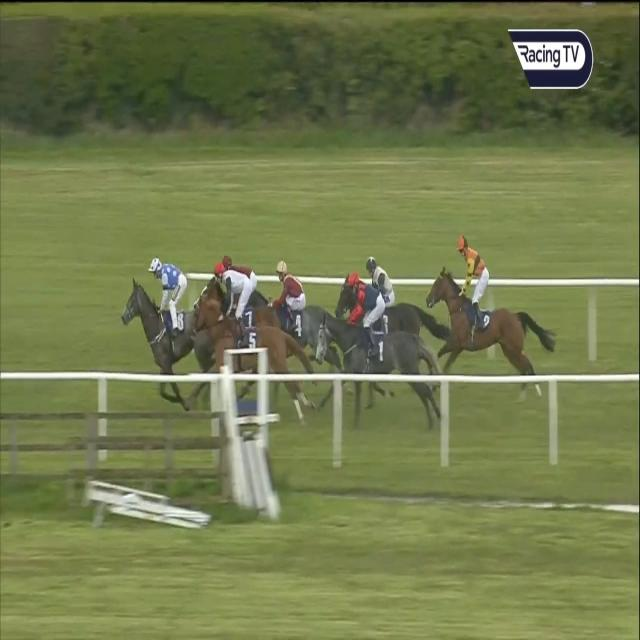horses-racing: (425, 234, 564, 403), (315, 273, 443, 433), (192, 260, 314, 426), (121, 255, 201, 411), (334, 255, 452, 337), (265, 259, 333, 352), (217, 252, 270, 306)
